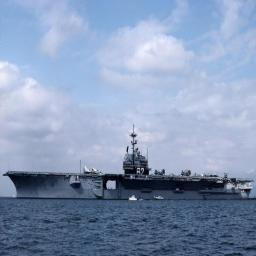Portanaves: (3, 123, 256, 201)
